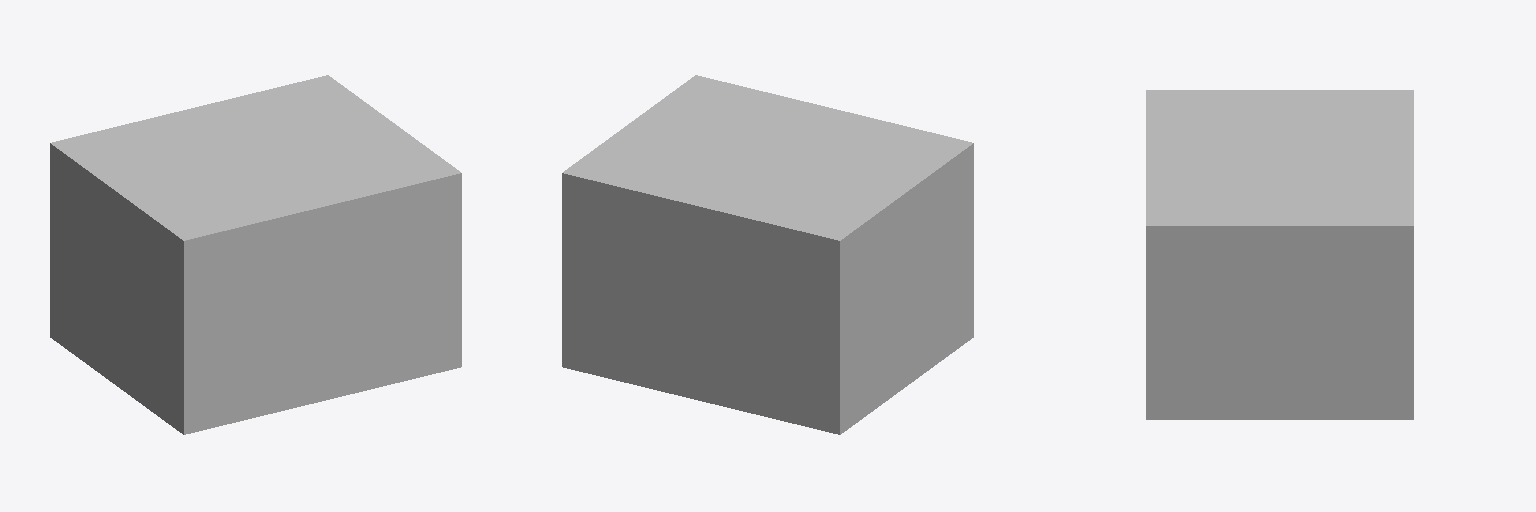
Rendered from squirrel-lowpoly-boxed.obj.
The picture shows the model from 3 angles: view 1: azimuth 30°, elevation 25°; view 2: azimuth 150°, elevation 25°; view 3: azimuth 270°, elevation 25°; orthographic projection.
Parts seen in each view (by area): view 1: WallFront, Ceiling, Walls; view 2: Walls, Ceiling; view 3: Walls, Ceiling.
Boxes of the visible parts, box(x1,y1,x2,y2) form: WallFront: box(184, 173, 461, 434); Ceiling: box(51, 75, 460, 240); Walls: box(50, 143, 183, 434); Walls: box(562, 143, 973, 434); Ceiling: box(563, 75, 972, 240); Walls: box(1146, 226, 1413, 419); Ceiling: box(1146, 90, 1413, 225).
Size of the model in its own units: 3 by 2.02 by 2.5.